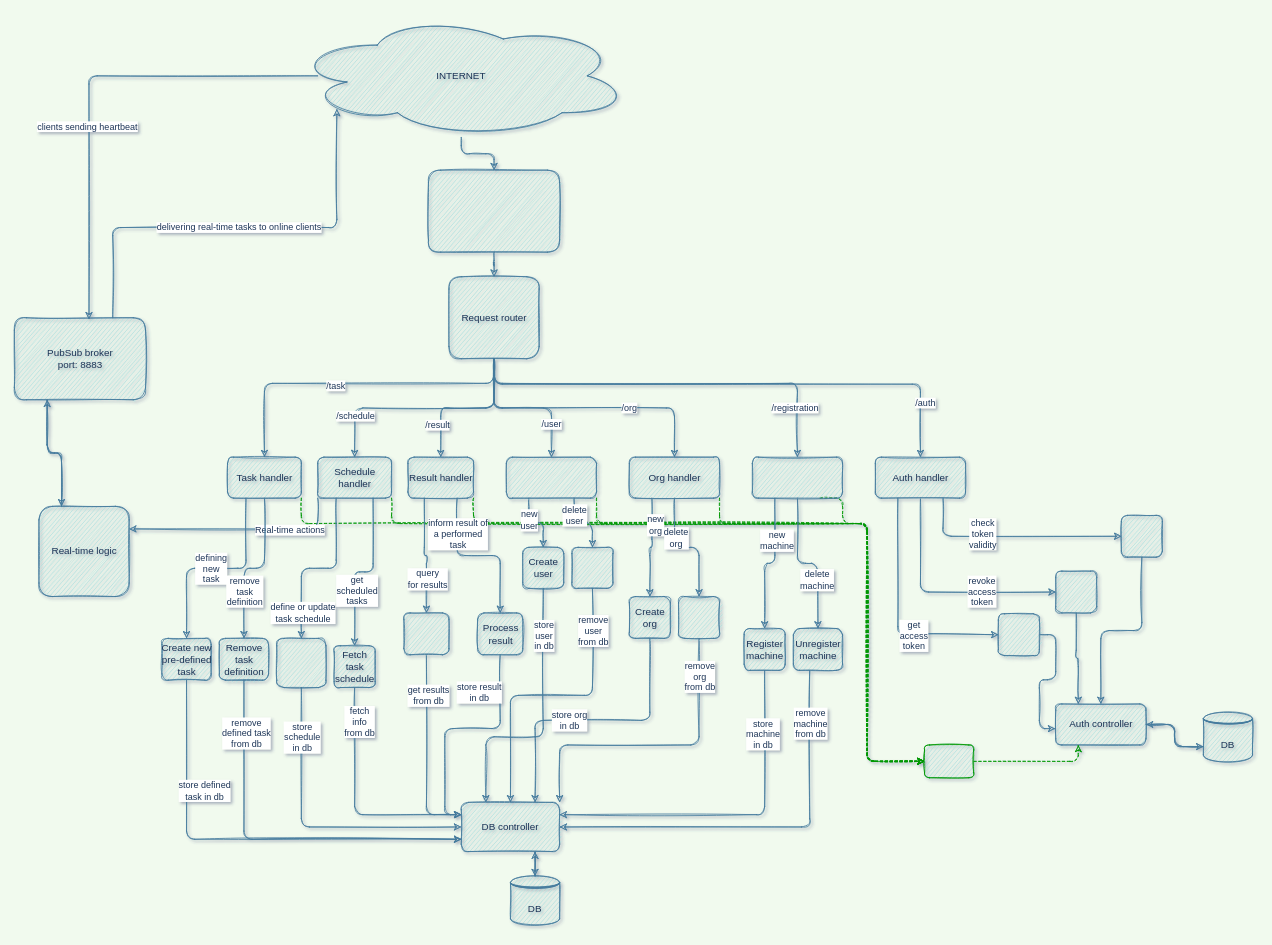
This 1272x945 diagram has some shape labels left out. Each missing label, with the box of its shape:
Check that action is allowed: (924, 744, 974, 778)
Check validity: (1121, 515, 1162, 557)
Create token: (998, 613, 1039, 656)
Fetch results: (403, 612, 449, 655)
HTTPS listener port: 443: (428, 169, 560, 252)
Registration handler: (752, 456, 843, 498)
Remove org: (678, 596, 720, 638)
Remove user: (571, 547, 613, 588)
Revoke token: (1055, 570, 1097, 613)
Schedule task for a set of clients: (276, 638, 326, 688)
User handler: (506, 456, 597, 498)
